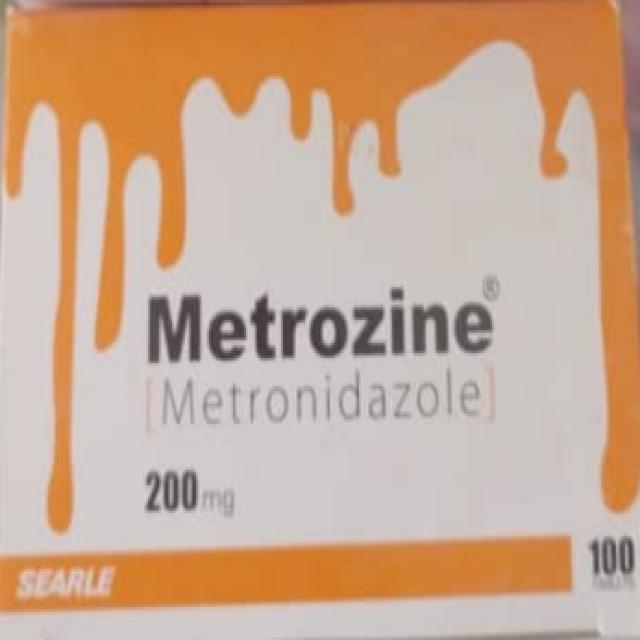drug-name: (141, 286, 497, 363)
